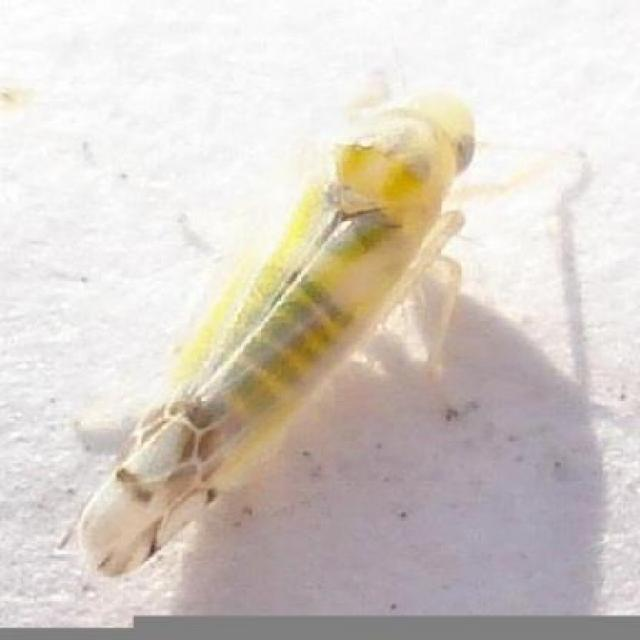green-leafhopper: (74, 83, 484, 583)
